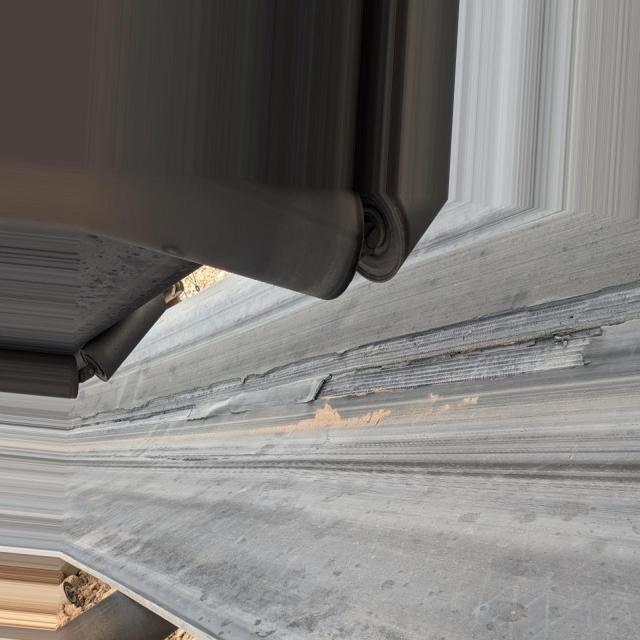Roller: (359, 153, 448, 284), (267, 198, 356, 306), (85, 290, 173, 380), (70, 587, 173, 640)
Tear: (80, 280, 640, 429)
